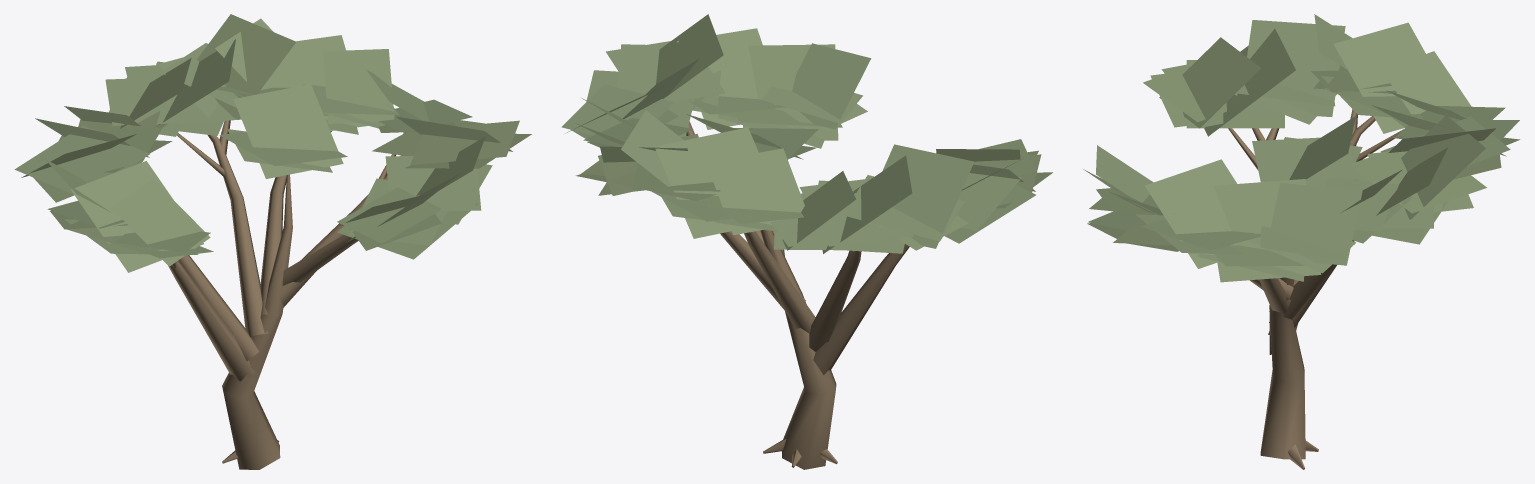
Rendered from acacia-1_lod1.glb.
3 renders of one model, left to right at view 1: azimuth 30°, elevation 25°; view 2: azimuth 150°, elevation 25°; view 3: azimuth 270°, elevation 25°, orthographic. The views are drawn at different scales.
Parts seen in each view (by area): view 1: 平顶金合欢 · 广伞冠 LOD1; view 2: 平顶金合欢 · 广伞冠 LOD1; view 3: 平顶金合欢 · 广伞冠 LOD1.
Part boxes in pixels (x1,y1,x2,y2): 平顶金合欢 · 广伞冠 LOD1: [14, 14, 531, 469]; 平顶金合欢 · 广伞冠 LOD1: [561, 14, 1052, 469]; 平顶金合欢 · 广伞冠 LOD1: [1083, 14, 1520, 469].
Size of the model in its own units: 9 by 7 by 7.48.
